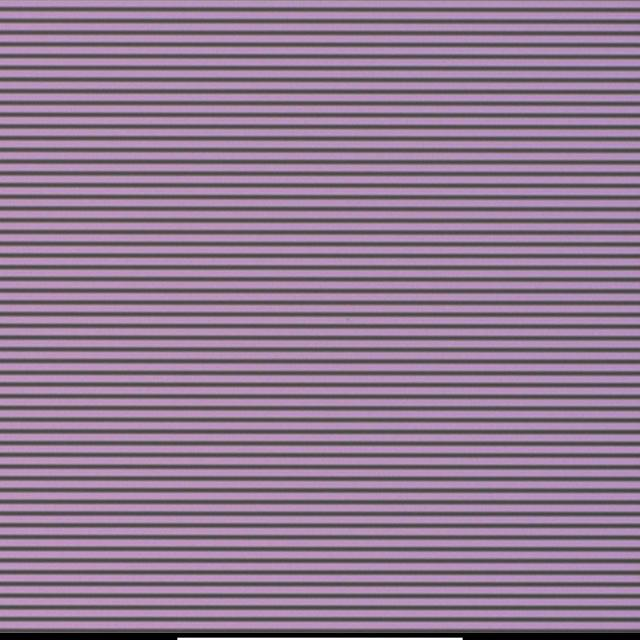nonvisual: (338, 312, 358, 327)
